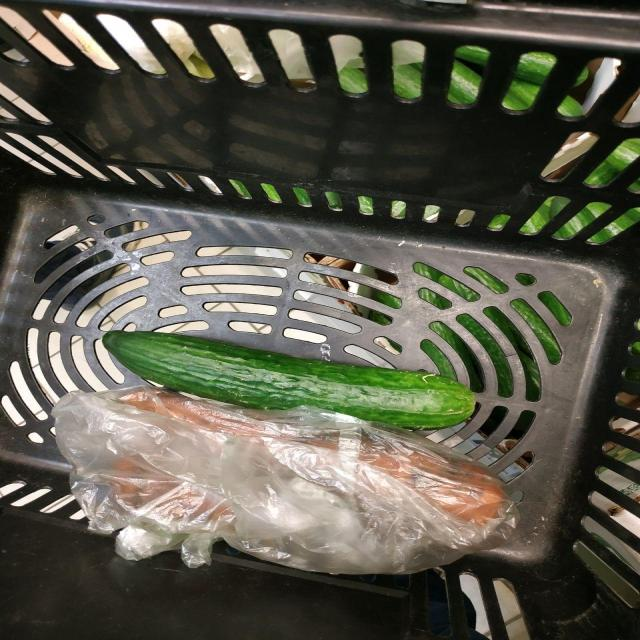carrot: (260, 264, 640, 640), (102, 208, 299, 612)
cucumber: (240, 202, 640, 592)
